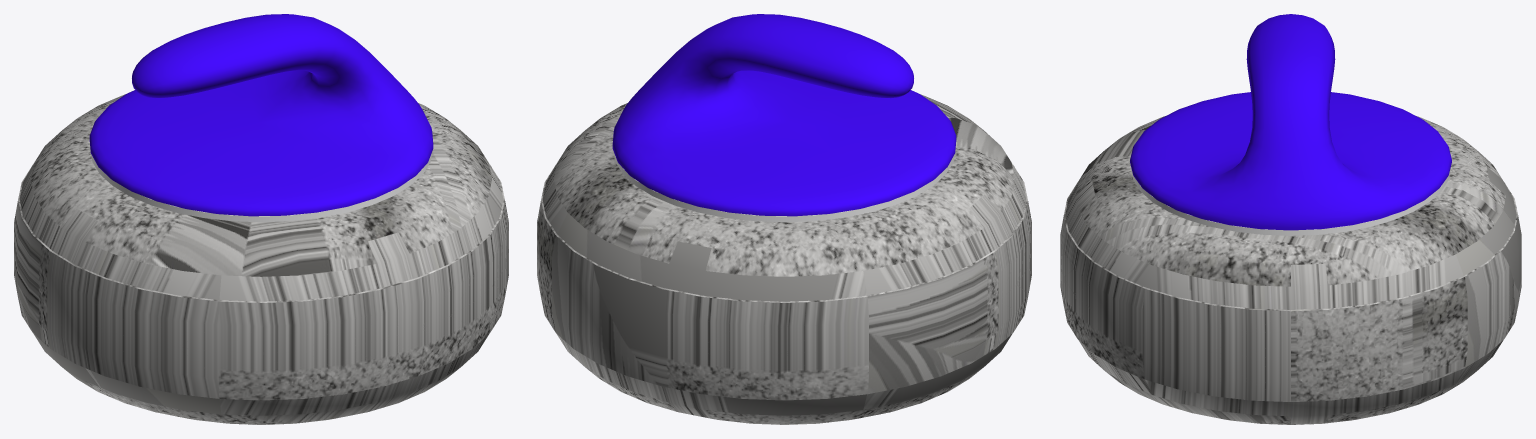
The model's file is culring ball Bluev4.fbx.
The picture shows the model from 3 angles, left to right: view 1: azimuth 30°, elevation 25°; view 2: azimuth 150°, elevation 25°; view 3: azimuth 270°, elevation 25°; orthographic projection. The views are drawn at different scales.
Visible parts, largest first — view 1: defaultMaterial, grippoint, defaultMaterial.001; view 2: defaultMaterial, grippoint, defaultMaterial.001; view 3: defaultMaterial, grippoint, defaultMaterial.001.
Part boxes in pixels (x1,y1,x2,y2): defaultMaterial: (14,94,508,424); grippoint: (89,14,433,216); defaultMaterial.001: (90,146,432,222); defaultMaterial: (537,94,1031,424); grippoint: (612,14,956,216); defaultMaterial.001: (613,146,955,222); defaultMaterial: (1060,116,1521,424); grippoint: (1130,14,1451,230); defaultMaterial.001: (1131,167,1450,235).
Bounding box in the file's own units: 200 × 145 × 200.
Materials: 3 (1 with a texture image).
